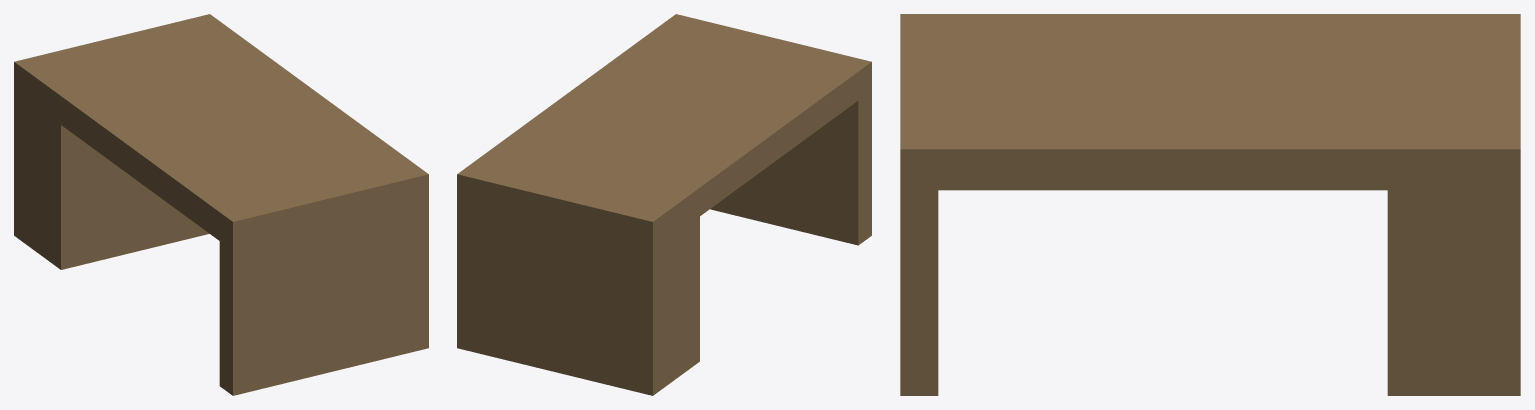
Rendered from Desk.fbx.
3 renders of one model, left to right at view 1: azimuth 30°, elevation 25°; view 2: azimuth 150°, elevation 25°; view 3: azimuth 270°, elevation 25°, orthographic. The views are drawn at different scales.
Visible parts, largest first — view 1: pCube1; view 2: pCube1; view 3: pCube1.
Boxes of the visible parts, x1=… form: pCube1: x1=14, y1=14, x2=428, y2=395; pCube1: x1=457, y1=14, x2=871, y2=395; pCube1: x1=900, y1=14, x2=1520, y2=395.
Bounding box in the file's own units: 2.79 × 2.37 × 5.4.
